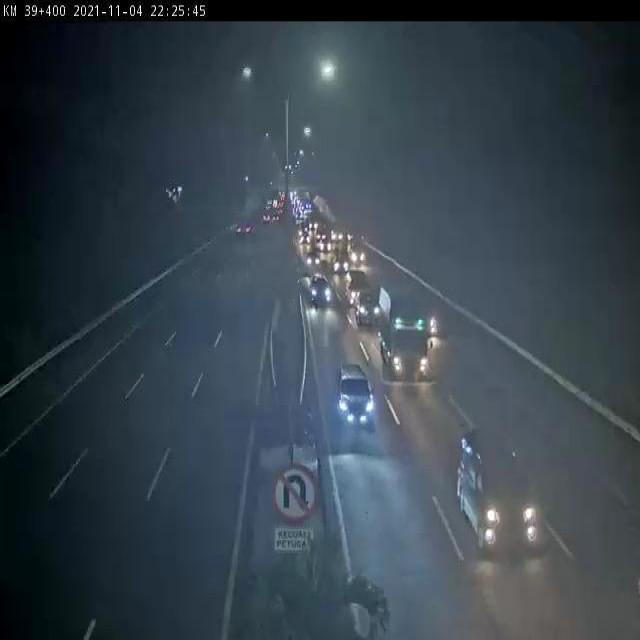car: (455, 424, 541, 559), (337, 361, 376, 428), (342, 270, 368, 306), (309, 270, 333, 306), (355, 288, 379, 324), (425, 300, 439, 339), (331, 252, 351, 275), (350, 243, 366, 265), (305, 248, 322, 268)
truck-m-: (378, 282, 431, 382)
